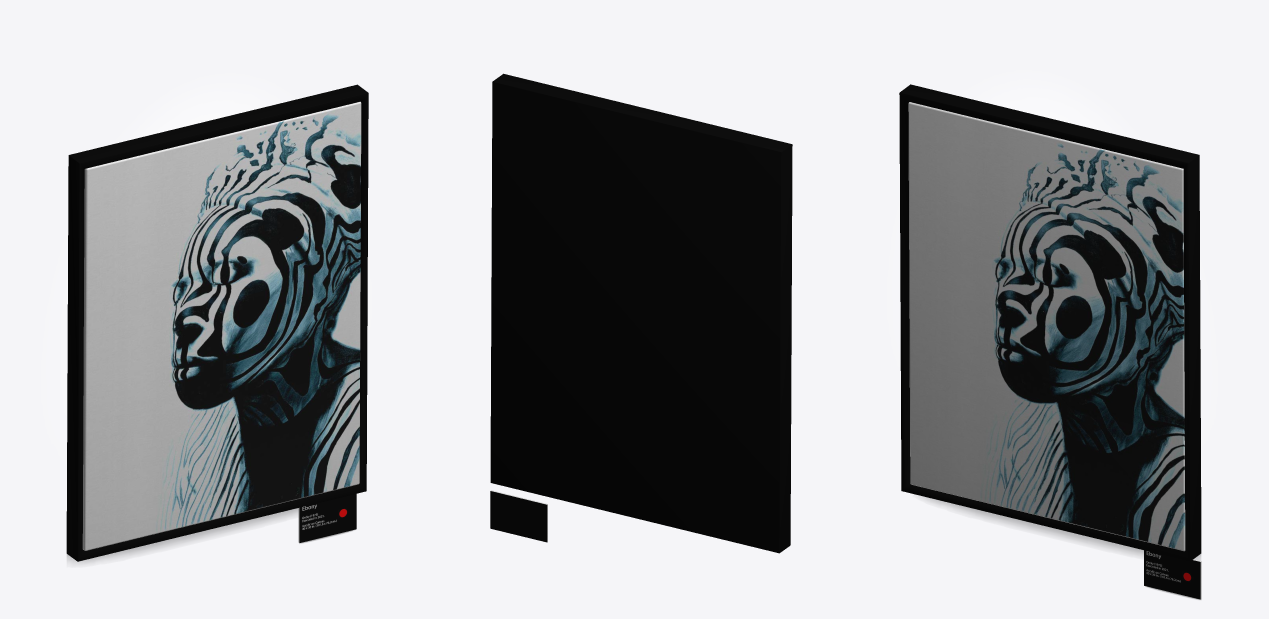
Rendered from ebony.glb.
3 views of the same model, side by side, from view 1: azimuth 30°, elevation 25°; view 2: azimuth 150°, elevation 25°; view 3: azimuth 330°, elevation 25° (orthographic).
Visible parts, largest first — view 1: Canvas, frame, ligth_, Box001, Plane001; view 2: frame, Box001; view 3: Canvas, frame, ligth_, Box001, Plane001.
Boxes of the visible parts, x1,y1,x2,y2 form: Canvas: (82, 101, 361, 550); frame: (66, 84, 368, 561); ligth_: (60, 83, 282, 415); Box001: (298, 494, 356, 542); Plane001: (67, 508, 298, 561); frame: (490, 73, 792, 553); Box001: (490, 490, 547, 542); Canvas: (908, 102, 1185, 551); frame: (899, 84, 1201, 561); ligth_: (974, 79, 1127, 136); Box001: (1144, 550, 1201, 599); Plane001: (928, 498, 1200, 559).
Bounding box in the file's own units: 10.94 × 13.36 × 0.6293.
Materials: 3 (2 with a texture image).
